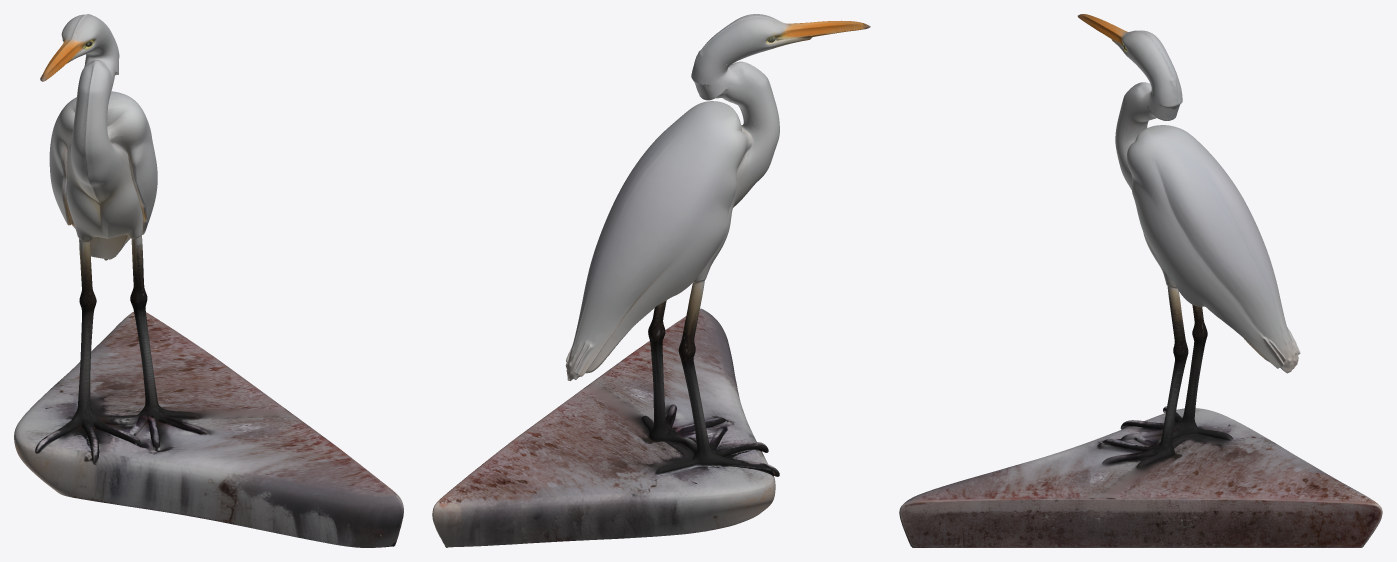
The model's file is nm__egret.glb.
The picture shows the model from 3 angles, left to right: view 1: azimuth 30°, elevation 25°; view 2: azimuth 150°, elevation 25°; view 3: azimuth 270°, elevation 25°; orthographic projection. The views are drawn at different scales.
Visible parts, largest first — view 1: Object_2, Object_3; view 2: Object_2, Object_3; view 3: Object_3, Object_2.
Part boxes in pixels (x1=…): Object_2: x1=21, y1=14, x2=403, y2=547; Object_3: x1=14, y1=97, x2=401, y2=526; Object_2: x1=565, y1=14, x2=870, y2=497; Object_3: x1=432, y1=87, x2=779, y2=547; Object_3: x1=901, y1=128, x2=1382, y2=547; Object_2: x1=899, y1=14, x2=1300, y2=547.
Bounding box in the file's own units: 0.3395 × 0.5903 × 0.5949.
Materials: 1 (1 with a texture image).
